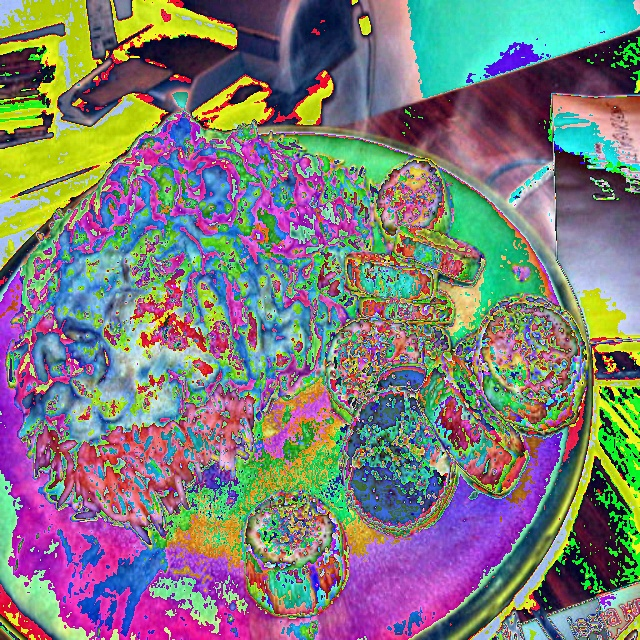background: (7, 110, 588, 548), (106, 127, 349, 618)
